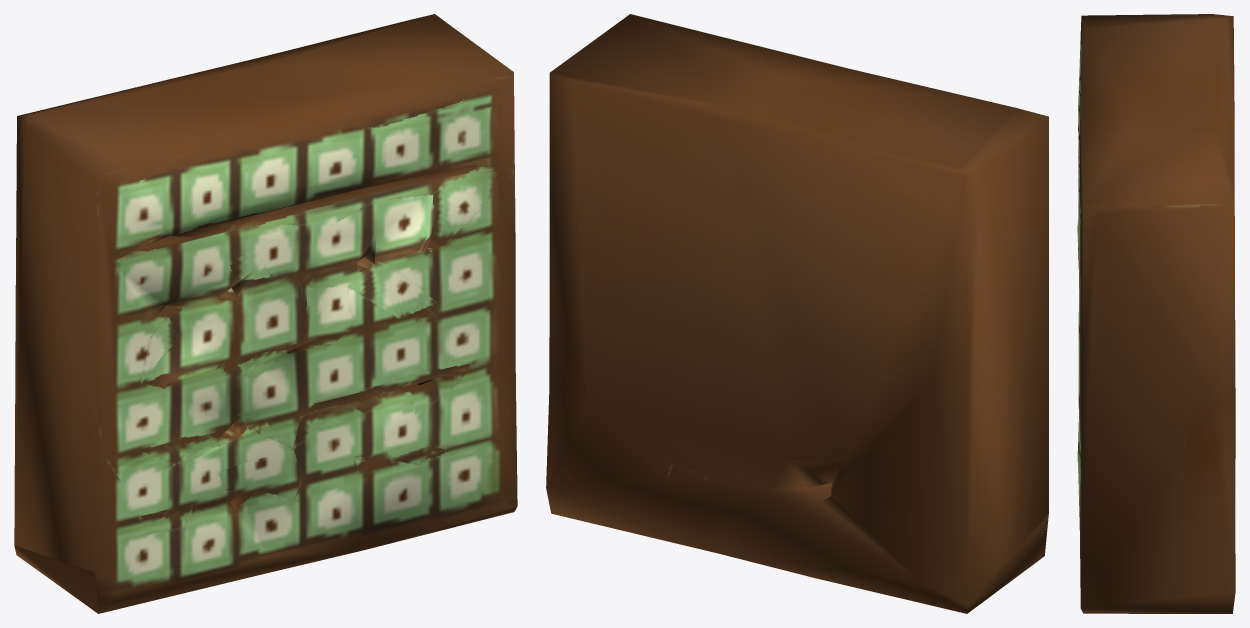
File: apothecary-cabinet.glb
3 renders of one model, left to right at view 1: azimuth 30°, elevation 25°; view 2: azimuth 150°, elevation 25°; view 3: azimuth 270°, elevation 25°, orthographic. The views are drawn at different scales.
Visible parts, largest first — view 1: geometry_0.001; view 2: geometry_0.001; view 3: geometry_0.001.
Part boxes in pixels (x1,y1,x2,y2): geometry_0.001: (14,14,517,613); geometry_0.001: (546,14,1048,613); geometry_0.001: (1077,14,1235,613).
Size of the model in its own units: 0.9992 by 0.9995 by 0.3489.
1 material, 1 textured.
